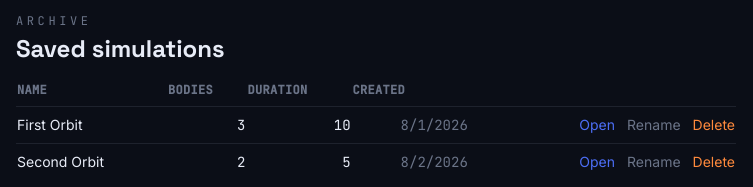
Test: SavedSimulationsPage › deletes a simulation via the Delete action after confirming
Expected: the text "First Orbit" is shown, [16, 106, 167, 144]
What coordinates should you click on to do the following:
click the button "Delete" in the row of "First Orbit"
I would click on:
 (714, 125)
Its box is [693, 115, 735, 135].
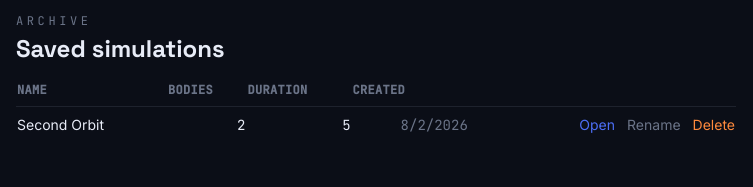
Expected: the text "Second Orbit" is shown, [16, 106, 167, 143]
Expected: the text "First Orbit" is gone
